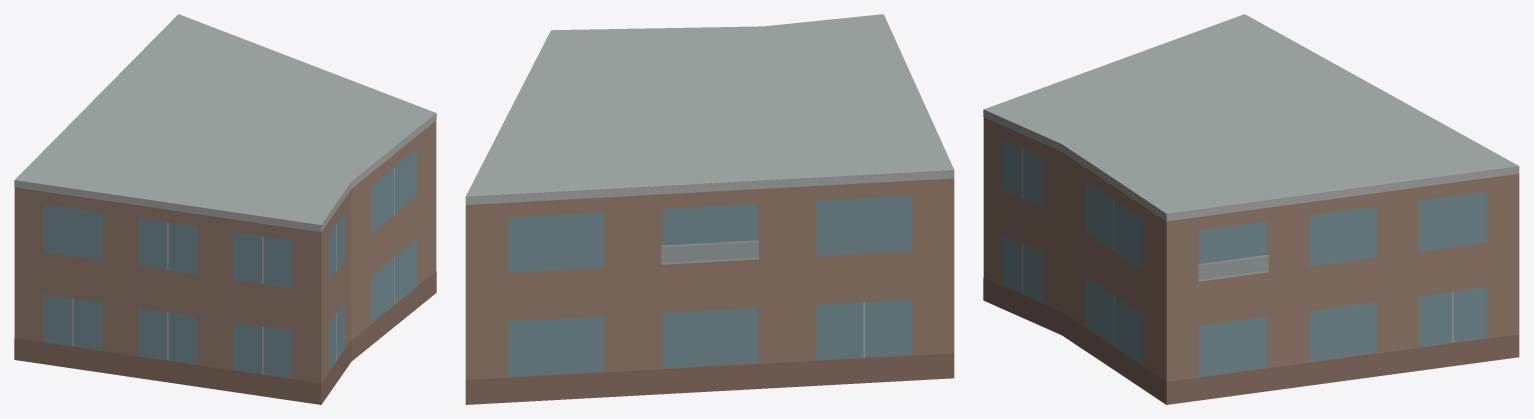
The model's file is survey-upis-33018011.glb.
The picture shows the model from 3 angles, left to right: view 1: azimuth 30°, elevation 25°; view 2: azimuth 150°, elevation 25°; view 3: azimuth 270°, elevation 25°; orthographic projection. The views are drawn at different scales.
Visible parts, largest first — view 1: survey-upis-33018011.tmp; view 2: survey-upis-33018011.tmp; view 3: survey-upis-33018011.tmp.
Part boxes in pixels (box(x1,y1,x2,y2)): survey-upis-33018011.tmp: box(14, 14, 436, 404); survey-upis-33018011.tmp: box(465, 14, 954, 404); survey-upis-33018011.tmp: box(983, 14, 1519, 404).
Size of the model in its own units: 13.69 by 6.1 by 15.51.
